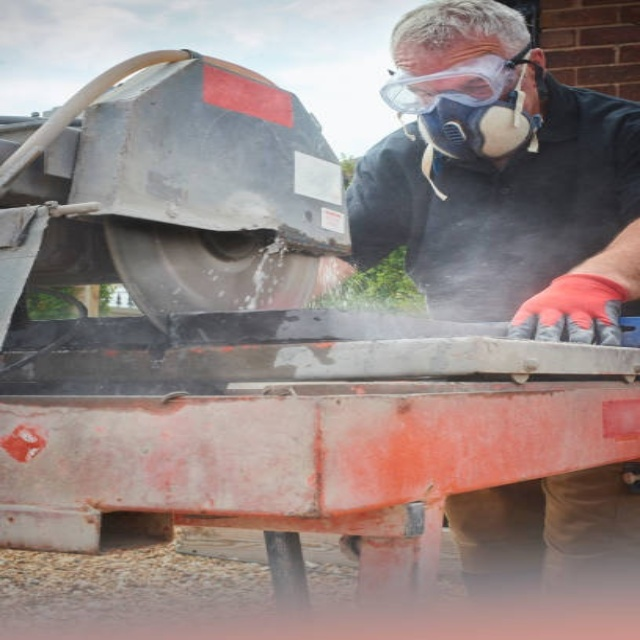Gafas: (380, 51, 527, 114)
Guantes: (506, 273, 632, 345)
Mascara: (408, 78, 534, 166)
